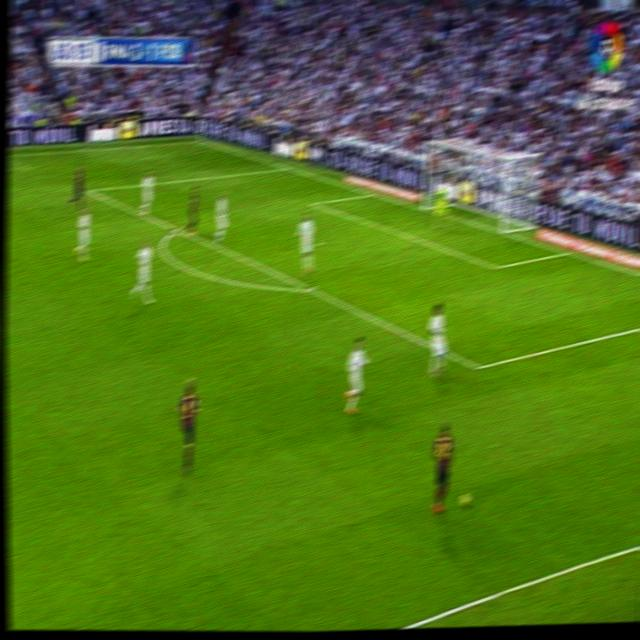bigarea_bottom_inner: (471, 356, 484, 377)
bottom_arc_area_intersection: (301, 279, 317, 298)
corner: (194, 134, 206, 146)
top_arc_area_intersection: (169, 220, 182, 236)
